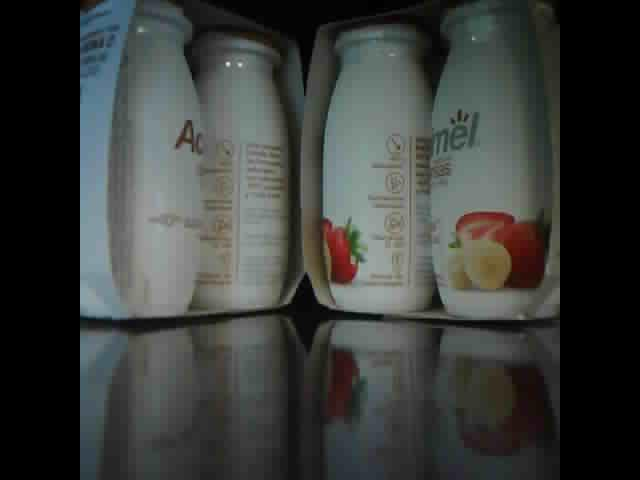actimel: (301, 1, 559, 321), (80, 1, 301, 323)
